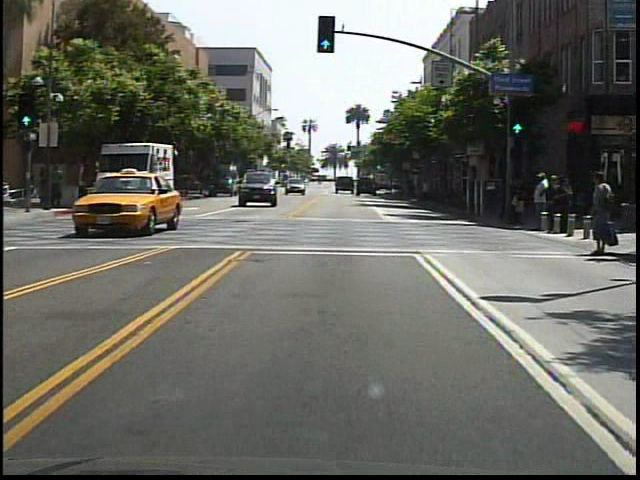person: (585, 170, 620, 256), (530, 166, 549, 229), (51, 162, 68, 210), (40, 167, 52, 209)
